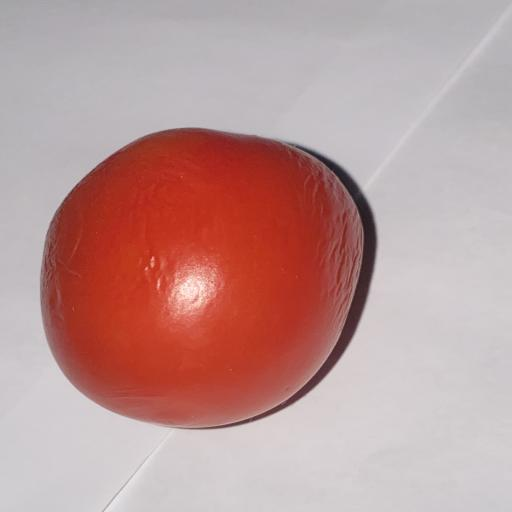overipe: (41, 128, 362, 427), (41, 129, 362, 427), (262, 262, 272, 265), (295, 222, 297, 226), (201, 294, 204, 296), (154, 178, 156, 179)
